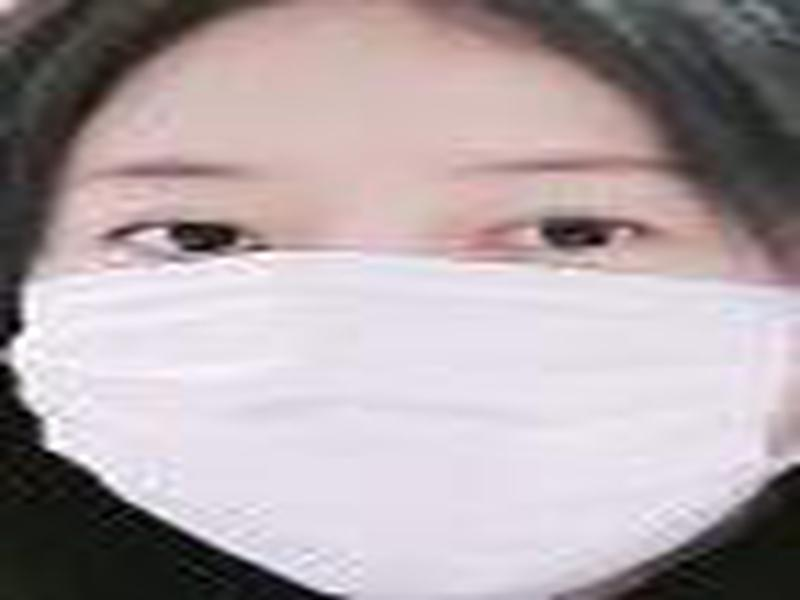with_mask: (1, 1, 797, 589)
